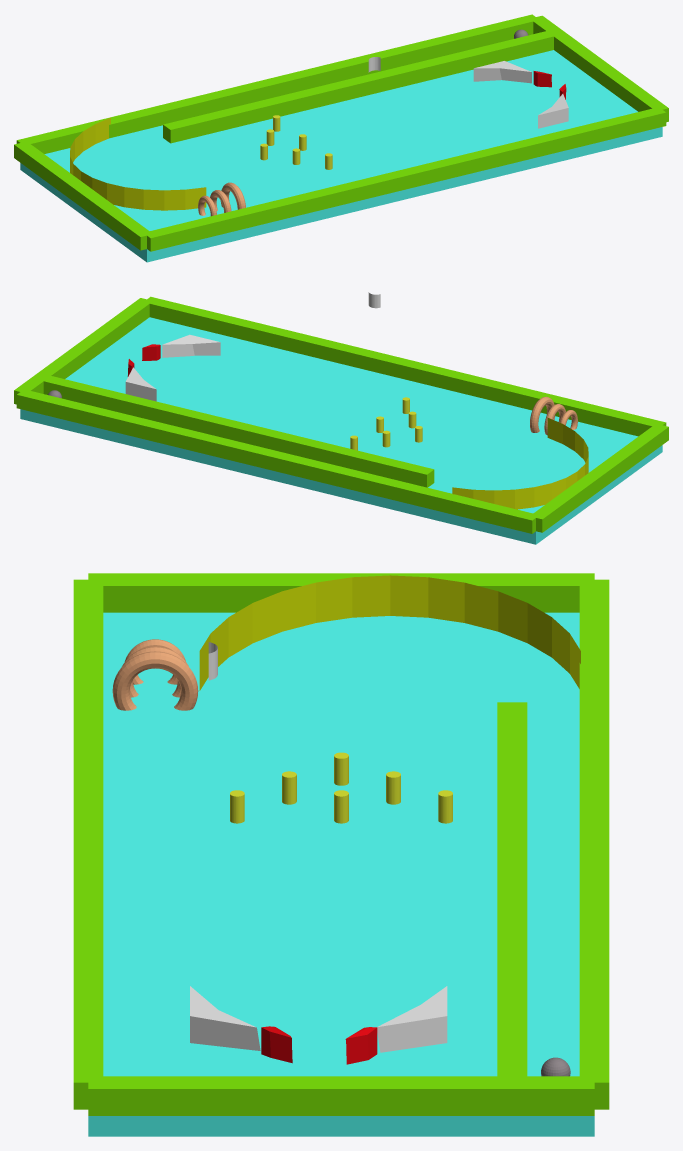
The model's file is pinball.fbx.
3 views of the same model, one above another, from view 1: azimuth 30°, elevation 25°; view 2: azimuth 150°, elevation 25°; view 3: azimuth 270°, elevation 25° (orthographic). The views are drawn at different scales.
Visible parts, largest first — view 1: Bottom of the board, wall left, wall right, Cube.005, wall top, Turn, wall under, Cube.001, Cube; view 2: Bottom of the board, wall right, wall left, Cube.005, wall top, wall under, Turn, Cube, Cube.001, Torus; view 3: Bottom of the board, wall under, wall right, wall left, Turn, Cube.005, wall top, Cube.001, Cube, Torus, Cube.002, Cube.003.
Part boxes in pixels (left/top/right/bottom): Bottom of the board: left=20, top=50, right=662, bottom=262; wall left: left=147, top=108, right=666, bottom=251; wall right: left=16, top=14, right=539, bottom=153; Cube.005: left=163, top=30, right=556, bottom=143; wall top: left=14, top=143, right=152, bottom=250; Turn: left=70, top=117, right=206, bottom=210; wall under: left=533, top=15, right=668, bottom=122; Cube.001: left=473, top=61, right=531, bottom=83; Cube: left=538, top=94, right=568, bottom=128; Bottom of the board: left=20, top=317, right=662, bottom=544; wall right: left=16, top=389, right=539, bottom=533; wall left: left=147, top=296, right=666, bottom=436; Cube.005: left=40, top=375, right=434, bottom=487; wall top: left=533, top=423, right=668, bottom=532; wall under: left=14, top=298, right=152, bottom=404; Turn: left=452, top=418, right=588, bottom=509; Cube: left=162, top=334, right=220, bottom=357; Cube.001: left=125, top=367, right=156, bottom=401; Torus: left=530, top=396, right=555, bottom=432; Bottom of the board: left=88, top=612, right=594, bottom=1136; wall under: left=88, top=1076, right=594, bottom=1115; wall right: left=579, top=579, right=609, bottom=1109; wall left: left=73, top=579, right=103, bottom=1109; Turn: left=199, top=575, right=580, bottom=690; Cube.005: left=497, top=702, right=527, bottom=1079; wall top: left=88, top=573, right=594, bottom=612; Cube.001: left=377, top=986, right=447, bottom=1052; Cube: left=190, top=986, right=260, bottom=1050; Torus: left=112, top=651, right=198, bottom=710; Cube.002: left=345, top=1027, right=377, bottom=1064; Cube.003: left=261, top=1026, right=292, bottom=1063.
Size of the model in its own units: 8200 by 1759 by 3600.
